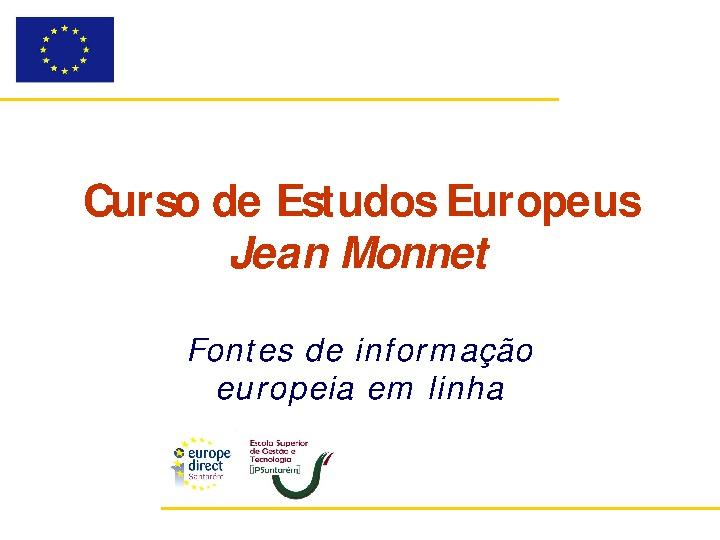subtitle: (184, 319, 568, 411)
title: (71, 158, 656, 292)
